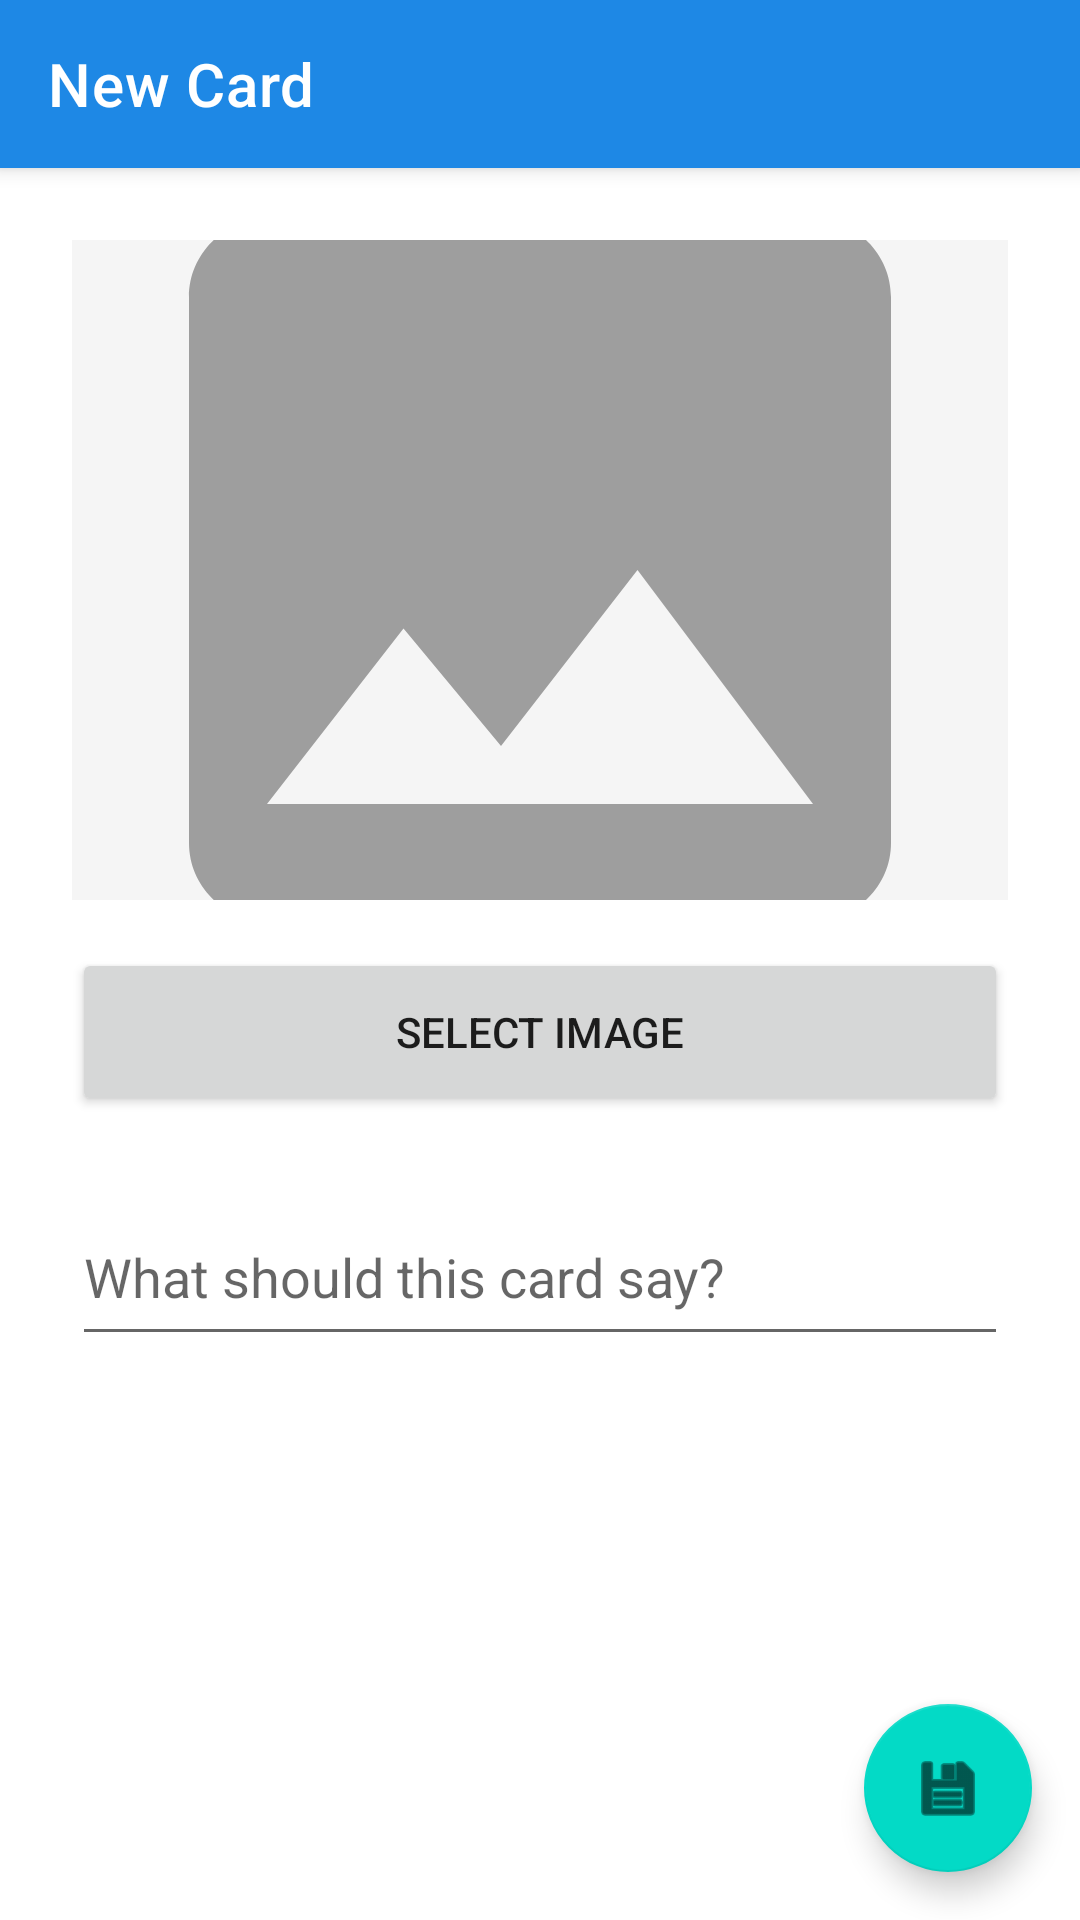

Named icons in this screenshot (1080 × 1920) and their centers, [x,y]:
Save card: [948,1788]
